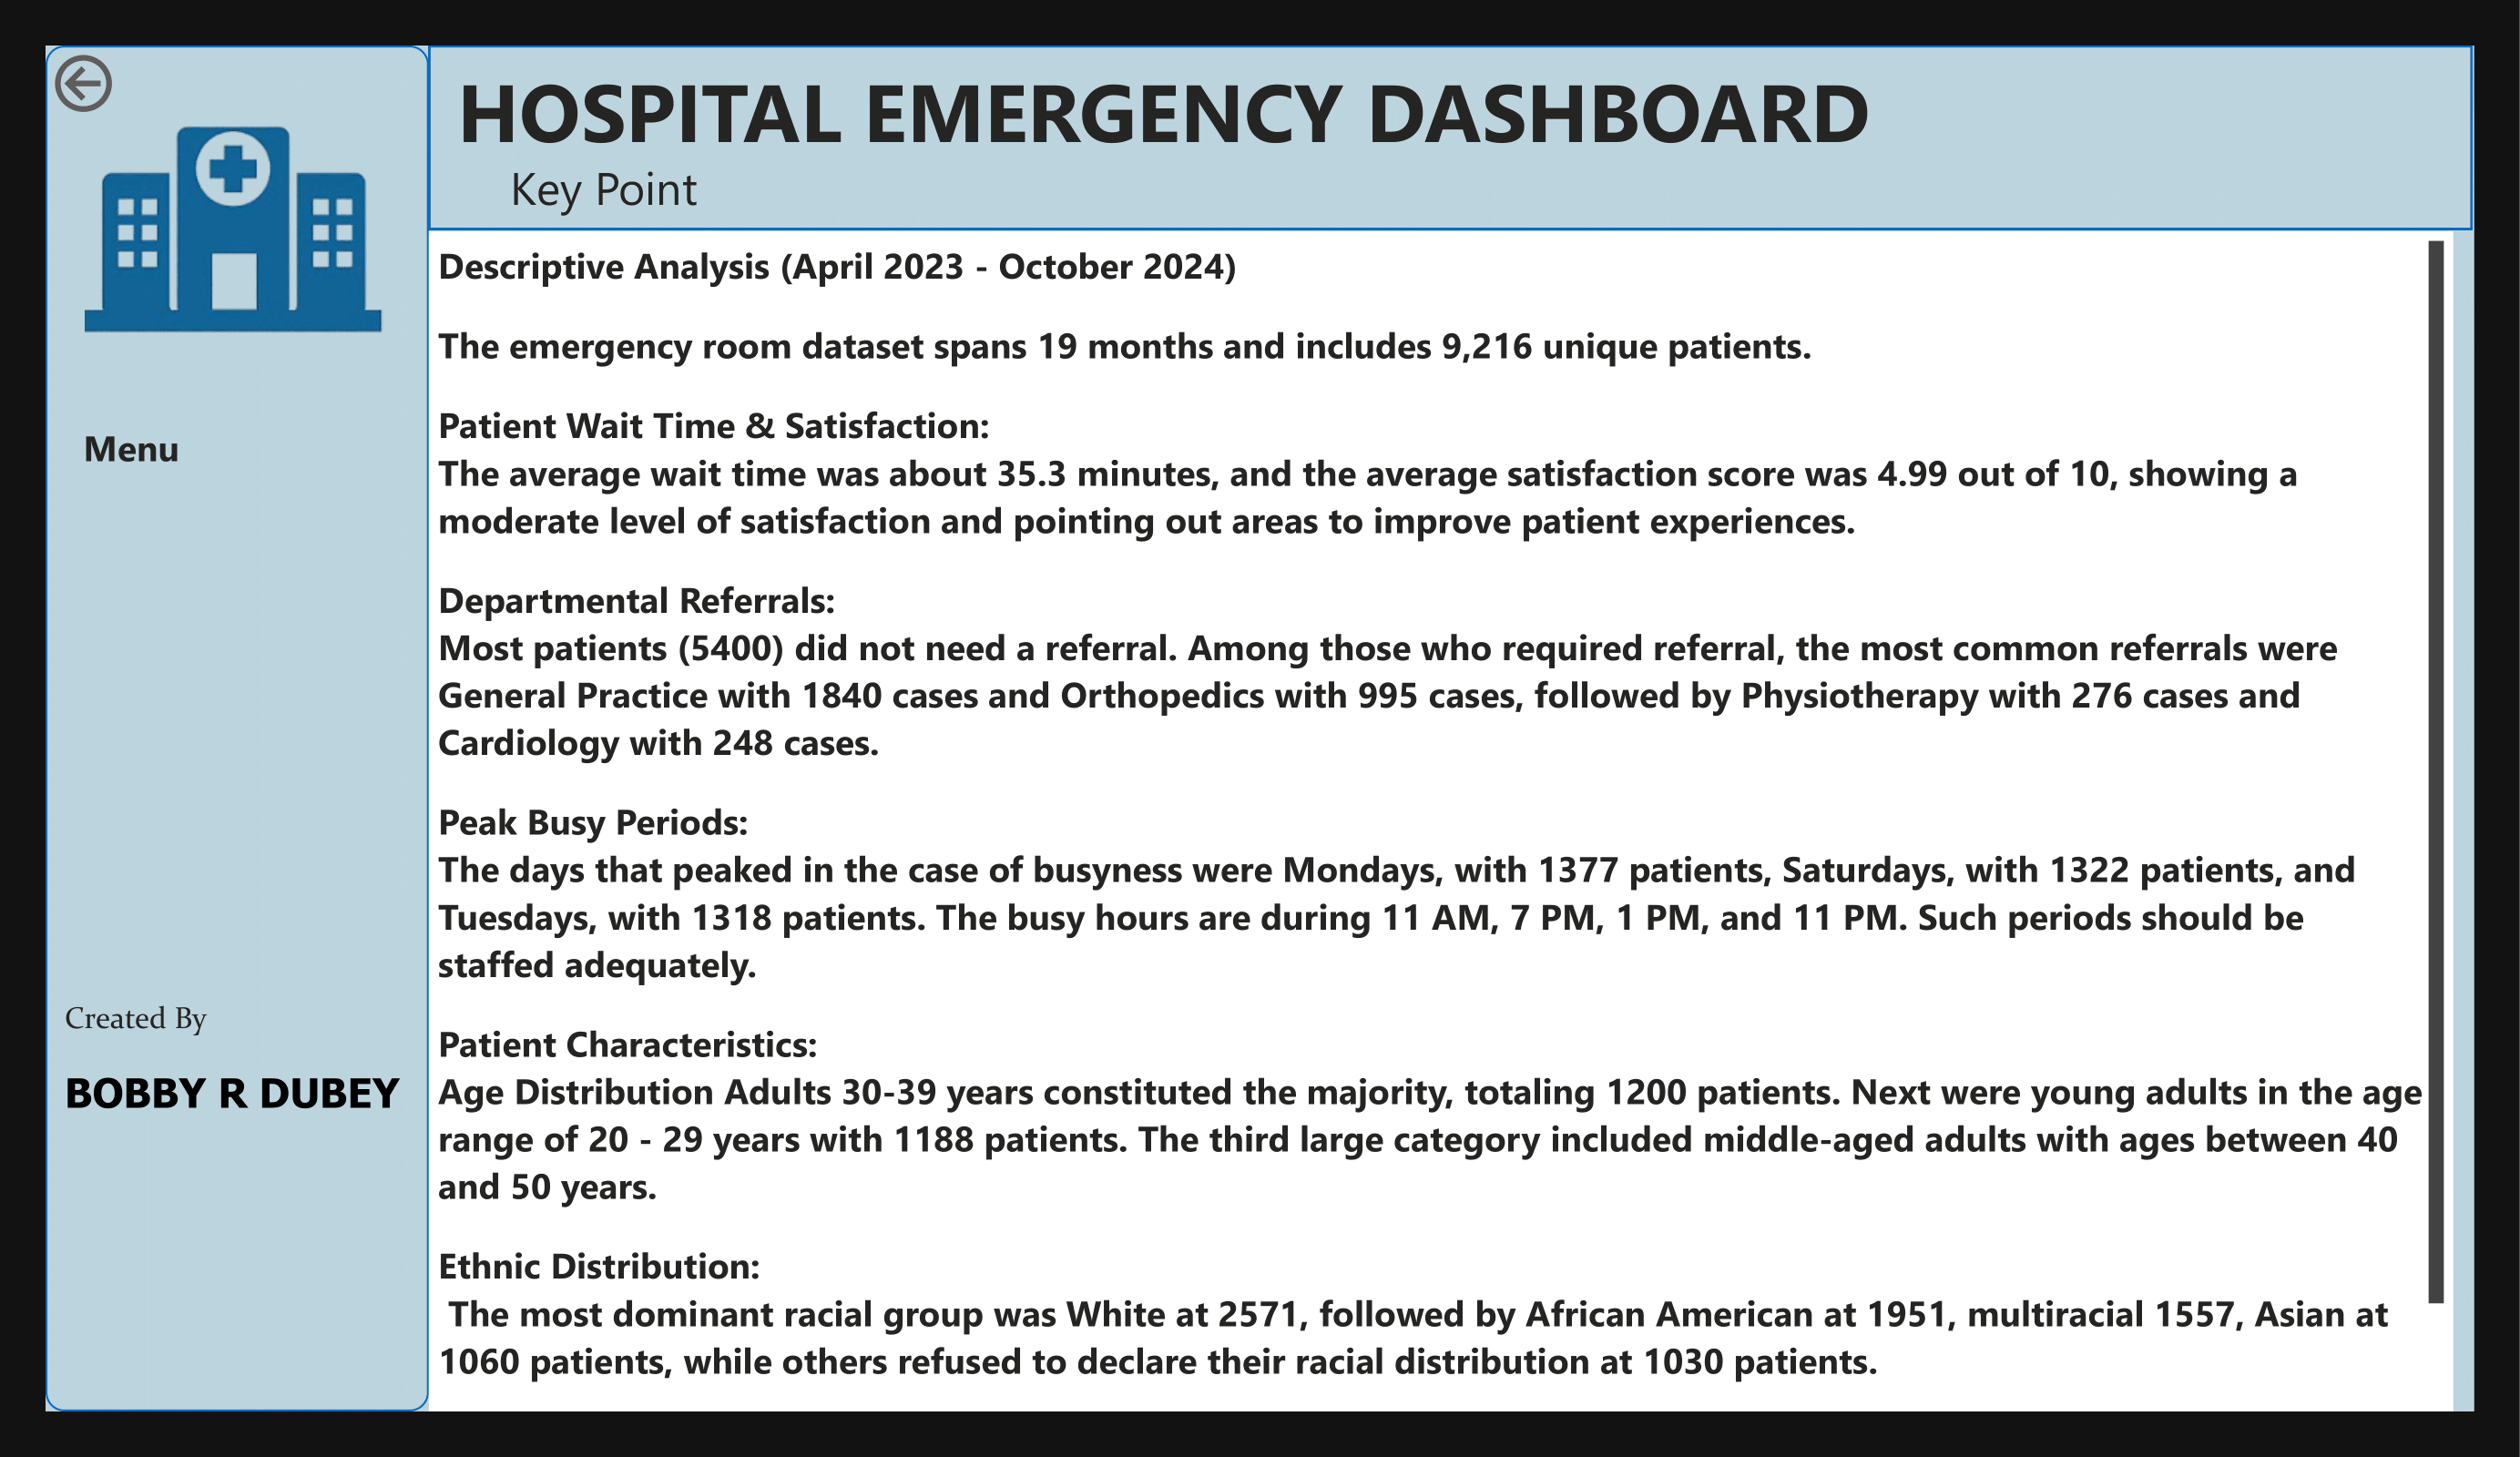

What the dashboard file says about the page in this screenshot:
{"tool":"powerbi","page":{"name":"Key Point","canvas":[1280,720],"ordinal":3},"visuals":[{"type":"shape","box":[0,0,202,720],"z":0},{"type":"shape","box":[202,0,1077,97.4],"z":1000},{"type":"textbox","box":[211.8,0,789.8,74.2],"z":2000},{"type":"textbox","box":[239.5,53.5,219.8,44.2],"z":3000},{"type":"image","box":[15.7,0,169.1,194.5],"z":4000},{"type":"actionButton","box":[0,0,100,40],"z":5000},{"type":"textbox","box":[15.1,194.2,93,41.9],"z":6000},{"type":"pageNavigator","box":[8.1,236,182.6,172.1],"z":7000},{"type":"textbox","box":[202.3,97.7,1066.3,622.1],"z":8000},{"type":"textbox","box":[4.7,497.7,190.7,140.7],"z":9000}]}

Visuals, with their boxes on the page's 1280x720 design canvas (x1, y1, x2, y2). These are canvas units, not pixel positions in the 2520x1457 screenshot, which may show the page scaled, cropped or inside an application window:
shape: 0/0/202/720
shape: 202/0/1279/97
textbox: 212/0/1002/74
textbox: 240/54/459/98
image: 16/0/185/194
actionButton: 0/0/100/40
textbox: 15/194/108/236
pageNavigator: 8/236/191/408
textbox: 202/98/1269/720
textbox: 5/498/195/638
